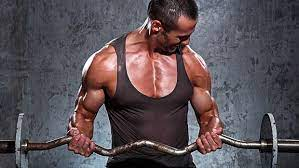face: (164, 14, 201, 57)
